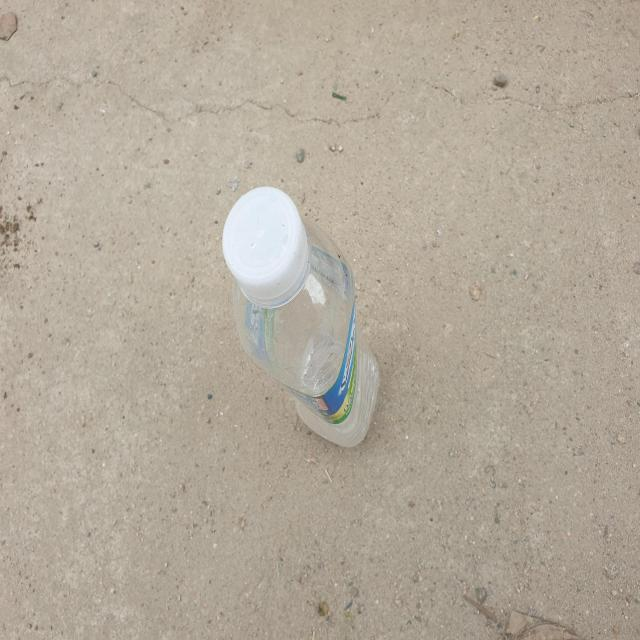plastic: (222, 186, 379, 447)
